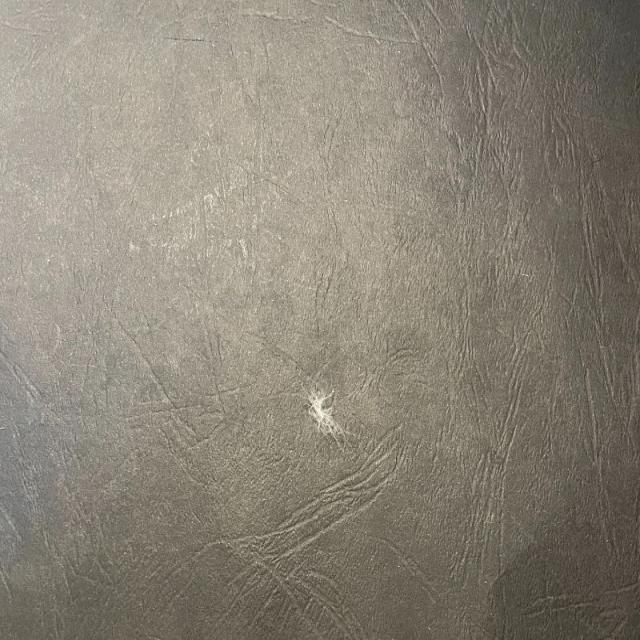feather: (302, 389, 356, 446)
